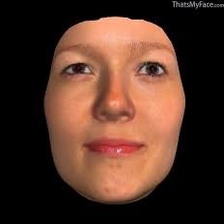no_mask: (56, 34, 179, 196)
